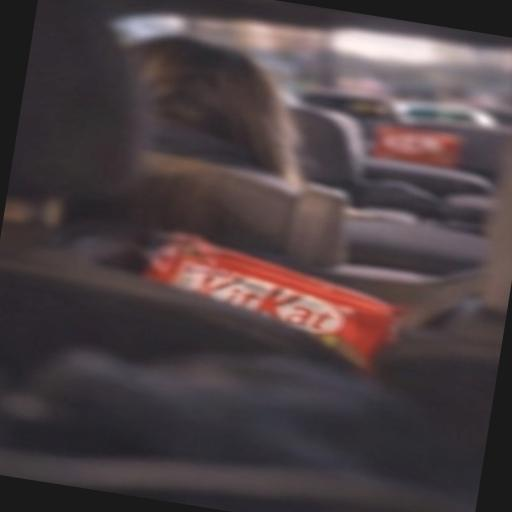kitkat: (62, 184, 464, 428)
